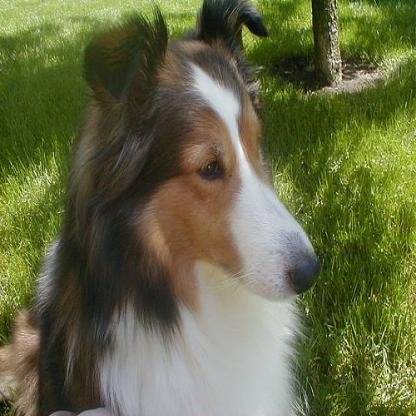Shetland_sheepdog: (0, 0, 319, 412)
